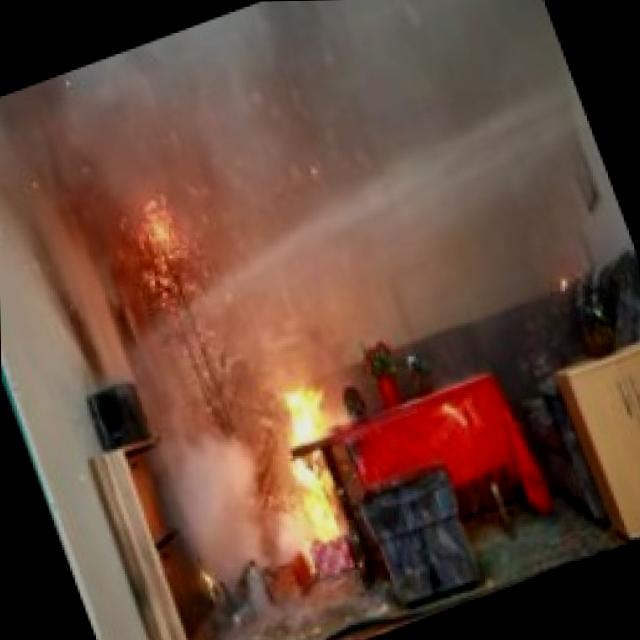fire: (255, 370, 372, 532)
smoke: (116, 323, 312, 576)
